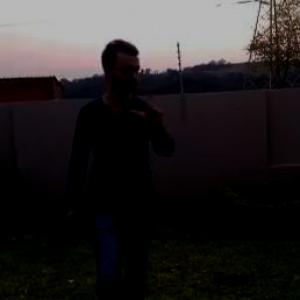land_hand: (123, 75, 163, 128)
